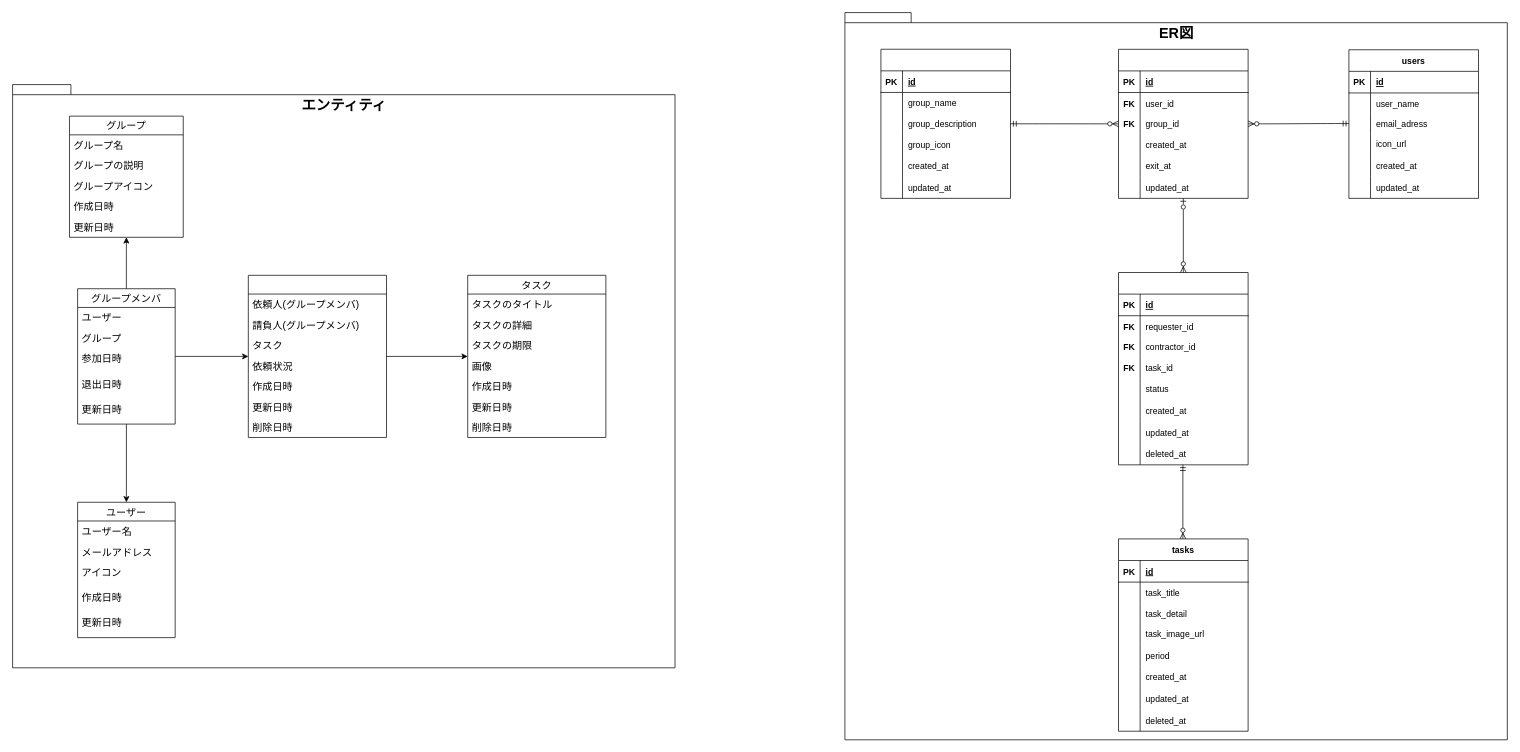
Some shapes in this 1520 by 752 pixel diagram are drawn without their labels. Each missing label, with the box of its shape:
group_users: (1118, 49, 1248, 198)
groups: (880, 49, 1011, 198)
requests: (1118, 272, 1248, 465)
依頼: (248, 275, 386, 437)
